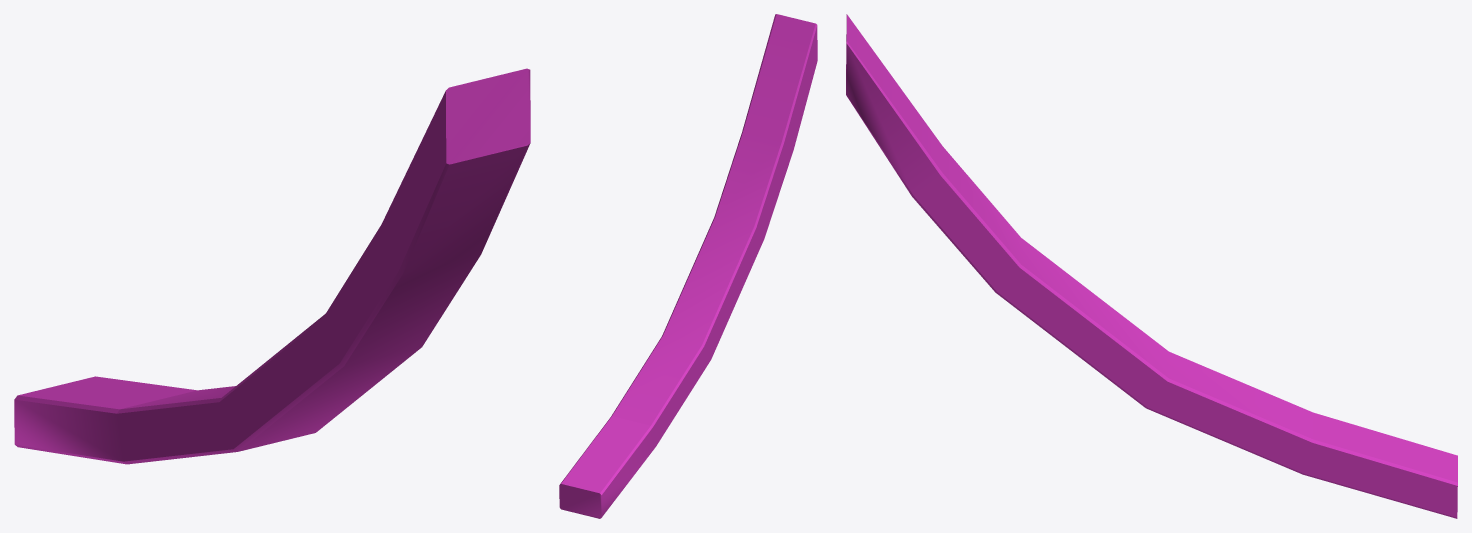
The model's file is RoofCurveBeamShort.fbx.
The picture shows the model from 3 angles, left to right: view 1: azimuth 30°, elevation 25°; view 2: azimuth 150°, elevation 25°; view 3: azimuth 270°, elevation 25°; orthographic projection. The views are drawn at different scales.
Parts seen in each view (by area): view 1: Object005; view 2: Object005; view 3: Object005.
Boxes of the visible parts, x1=… form: Object005: x1=14, y1=68, x2=530, y2=464; Object005: x1=559, y1=14, x2=817, y2=518; Object005: x1=846, y1=14, x2=1457, y2=518.
Bounding box in the file's own units: 18.23 × 162 × 139.
